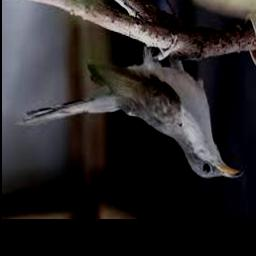Cuckoo: (16, 36, 243, 179)
